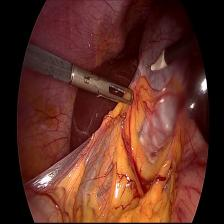Grasper: (72, 63, 134, 111)
Hook: (144, 48, 169, 79)
